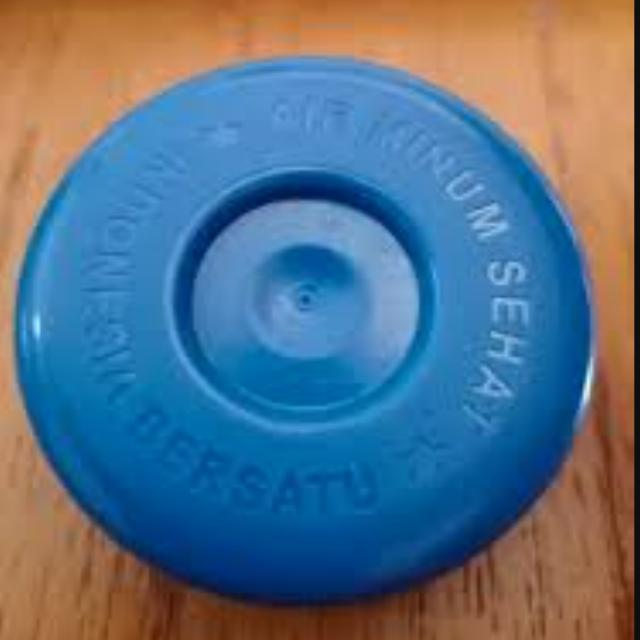TutupGalon: (10, 50, 599, 605)
